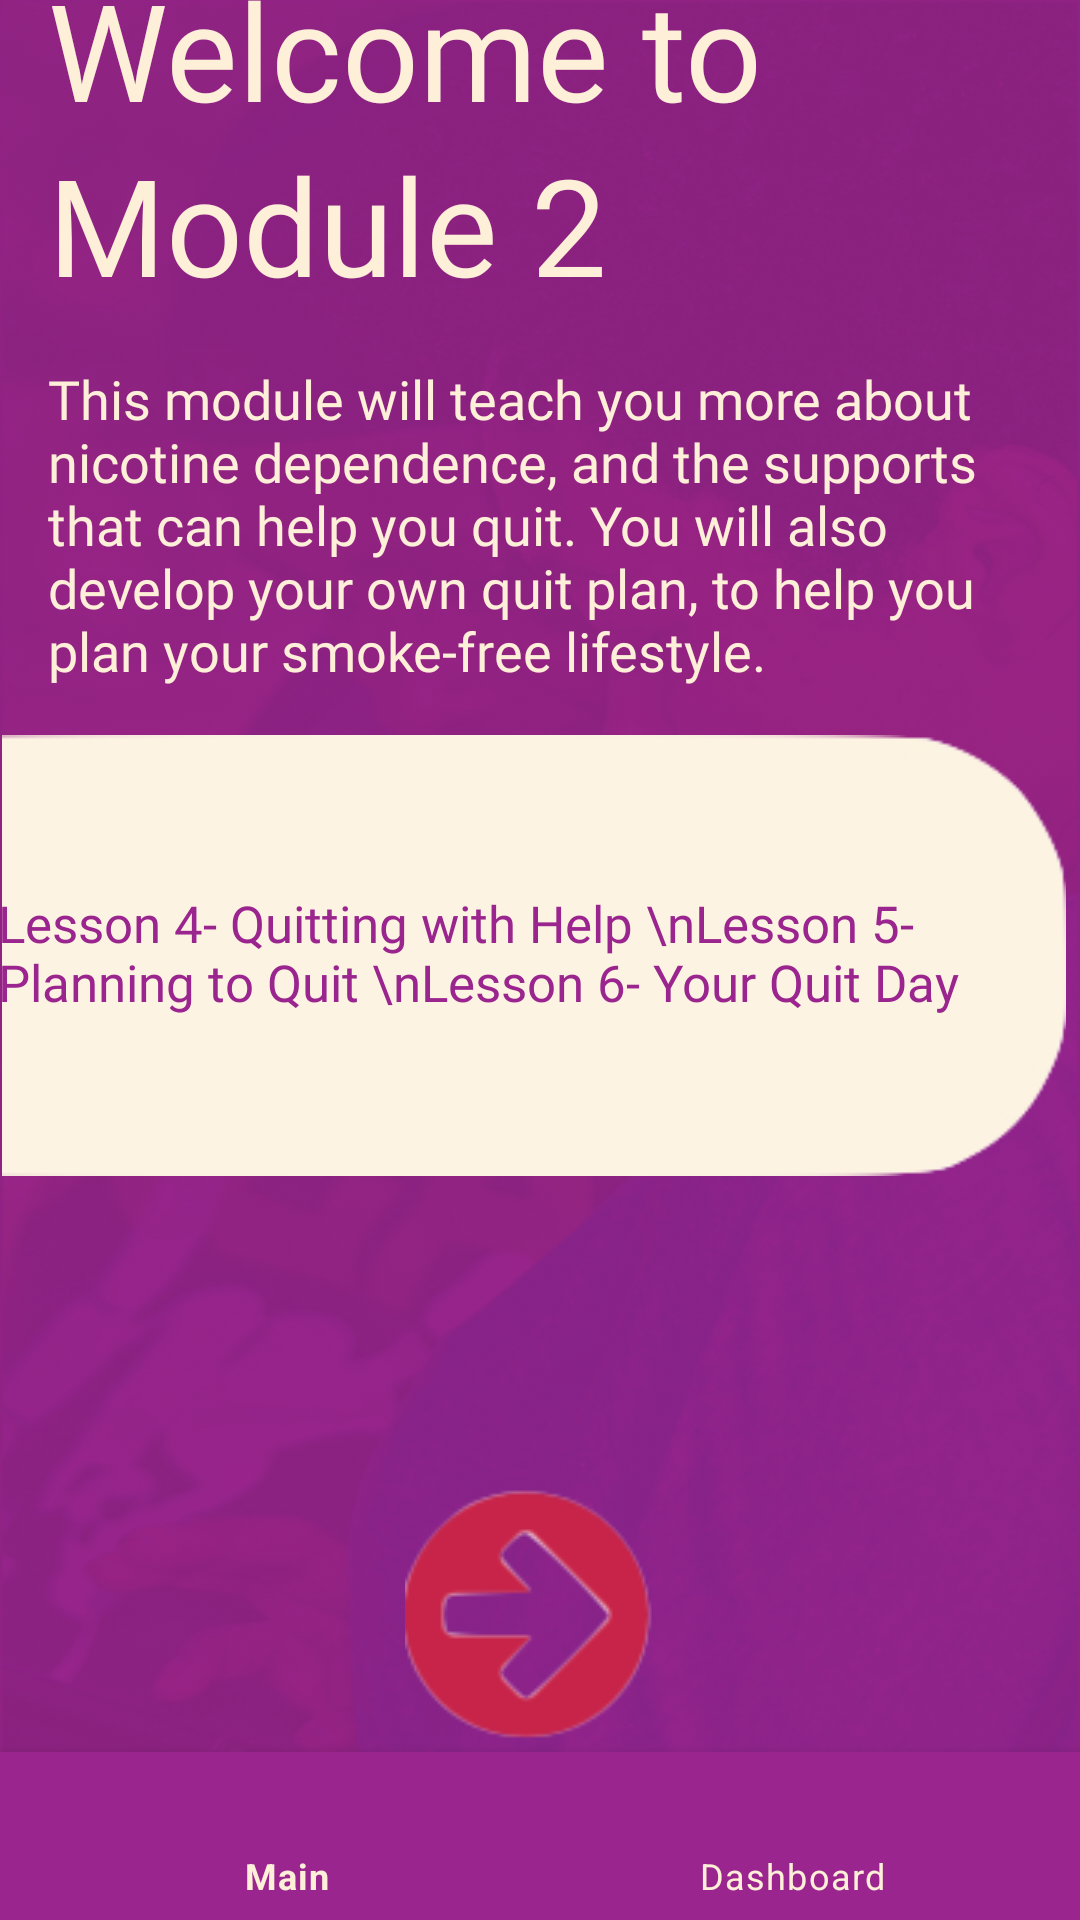

Icons on this 1080*1920 Android screen, each with the point to tap as (x=x, y=y):
next: (x=528, y=1614)
